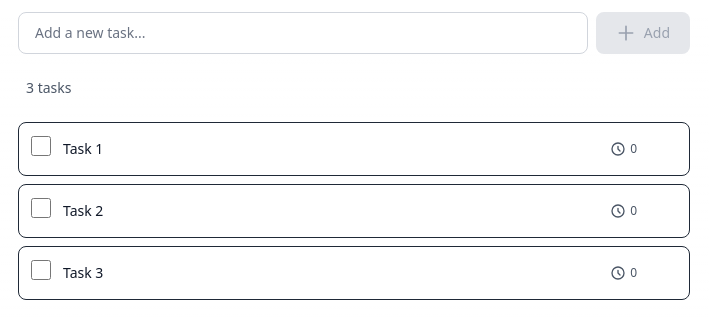
Scenario: TaskList Component › Task Interactions › should select task when task item is clicked
Click the heading "Task 1" at (83, 148), box [63,139,103,158]
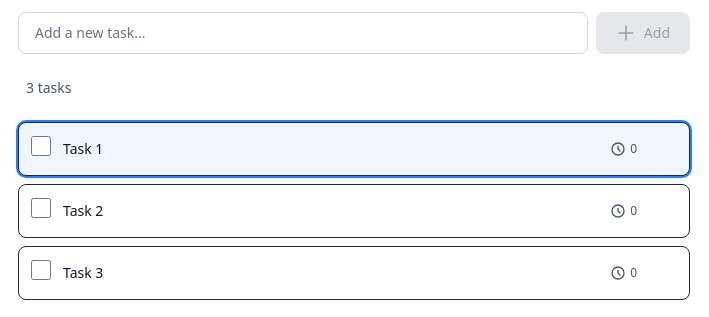
Expected: the element with class "ring-2" is shown, [18,122,690,176]
